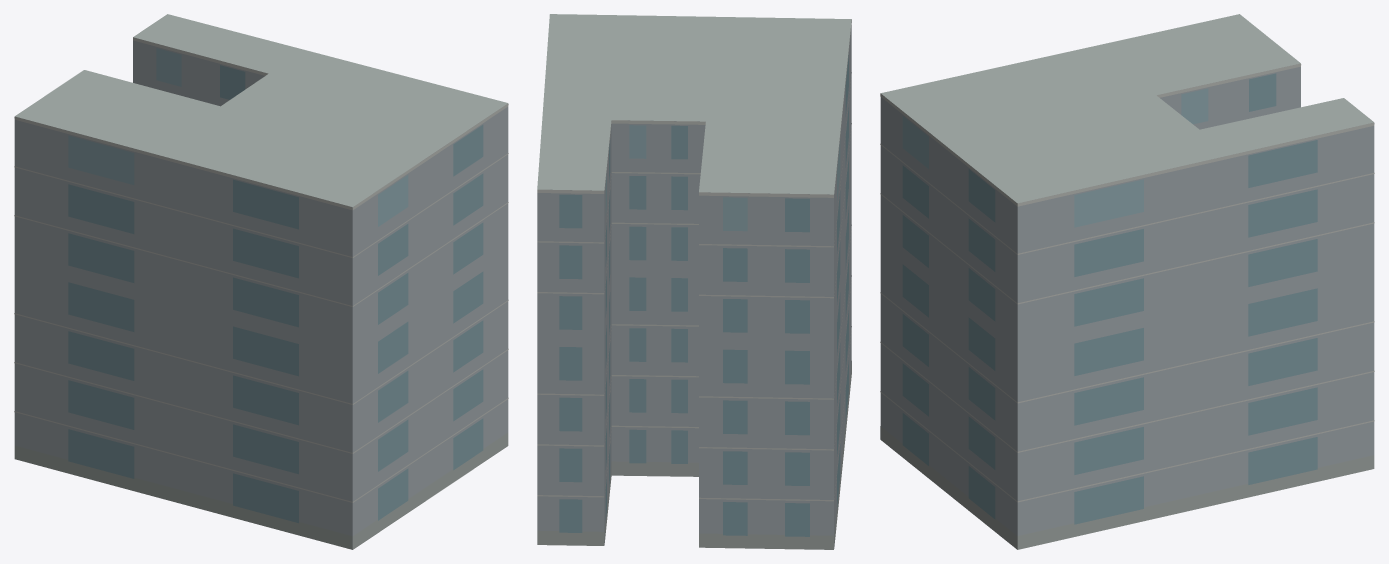
The model's file is survey-upis-32890502.glb.
3 renders of one model, left to right at view 1: azimuth 30°, elevation 25°; view 2: azimuth 150°, elevation 25°; view 3: azimuth 270°, elevation 25°, orthographic. The views are drawn at different scales.
Visible parts, largest first — view 1: survey-upis-32890502.tmp; view 2: survey-upis-32890502.tmp; view 3: survey-upis-32890502.tmp.
Part boxes in pixels (x1,y1,x2,y2): survey-upis-32890502.tmp: (14,14,508,549); survey-upis-32890502.tmp: (537,14,851,549); survey-upis-32890502.tmp: (880,14,1374,549).
Bounding box in the file's own units: 30.16 × 25.7 × 33.23.
